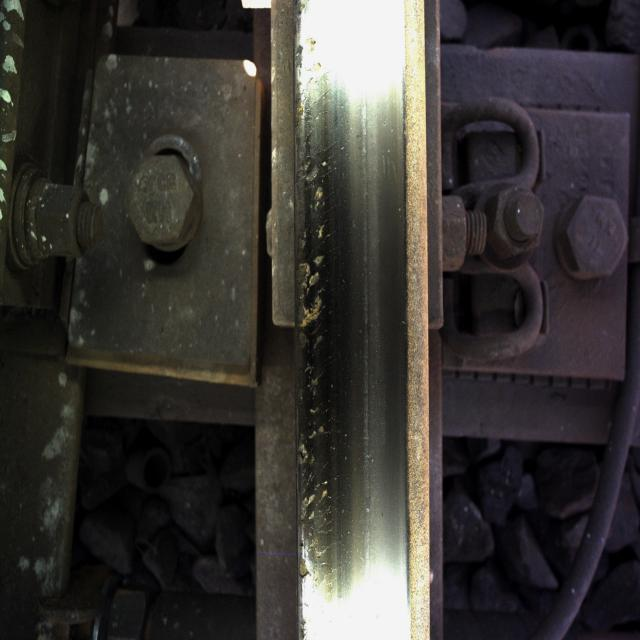scar: (293, 0, 367, 590)
